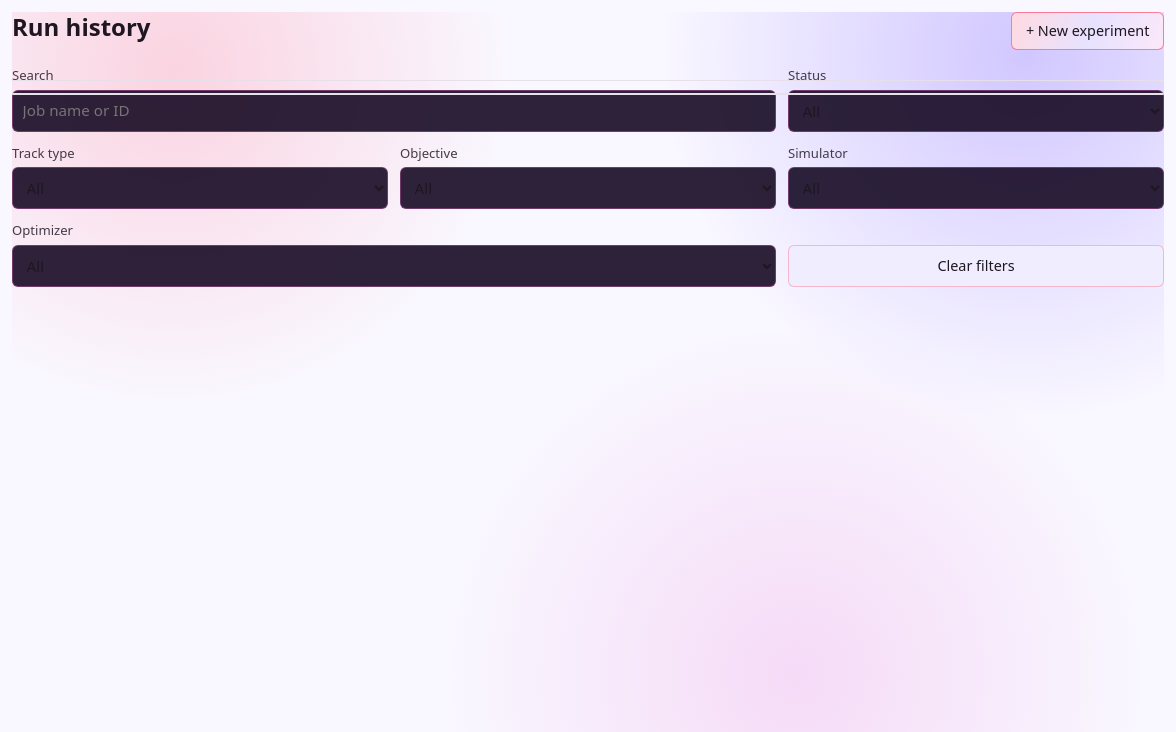
Test: History compare selection › filters jobs by name, simulator, and optimizer and clears every filter
Type "Alpha" into the search field labelled "Search" at (394, 111), box [12,90,776,132]
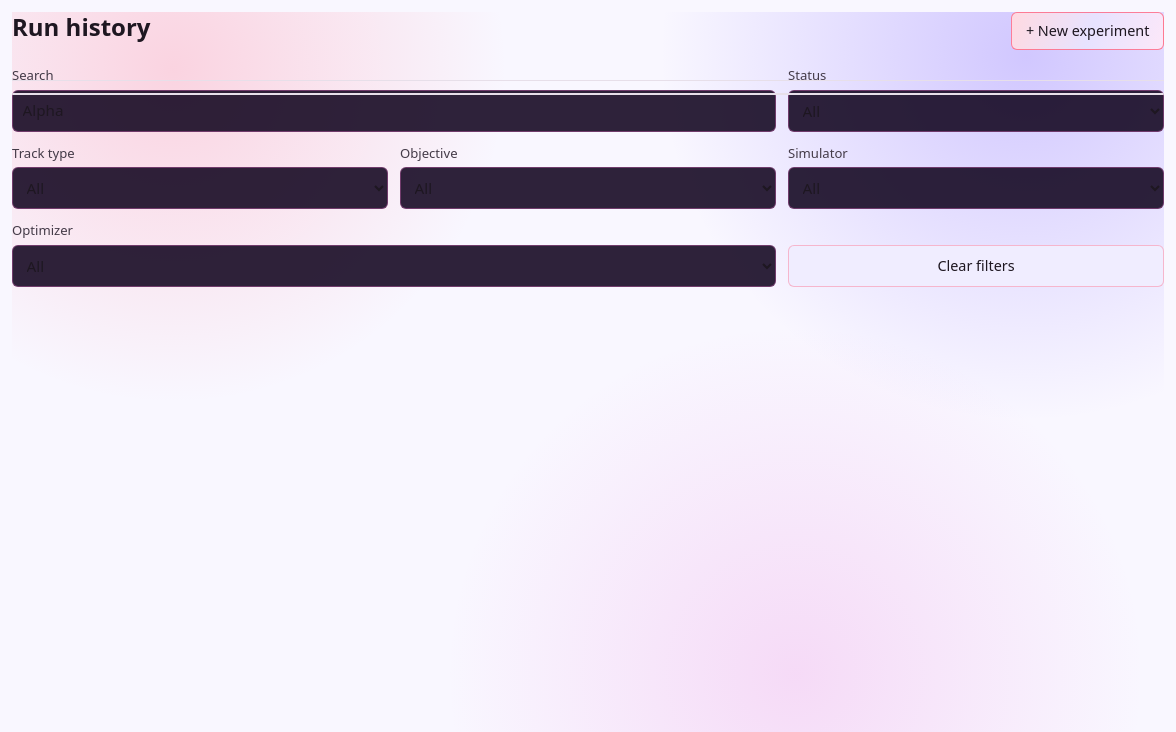
expect the text "Beta workflow" is not shown: met
Select "PX4 / Gazebo" in the dropdown labelled "Simulator" at (976, 188), box [788,167,1164,209]
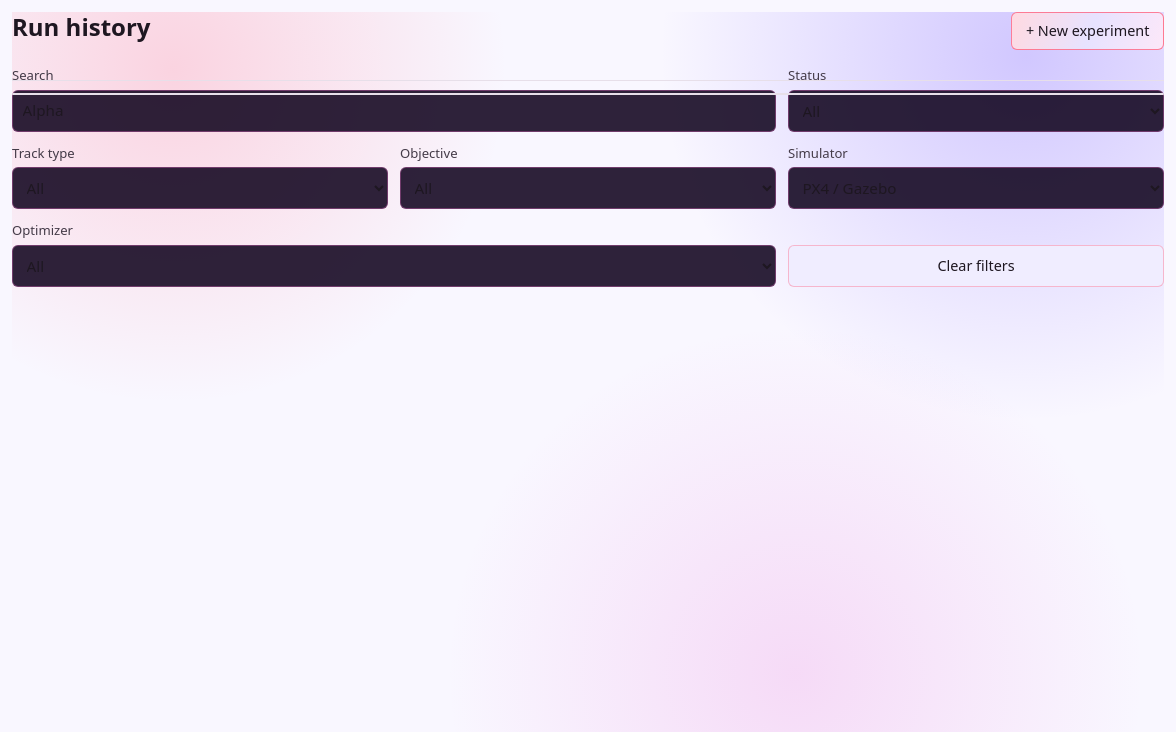
Select "Accuracy-first optimizer portfolio (Recommended)" in the dropdown labelled "Optimizer" at (394, 266), box [12,245,776,287]
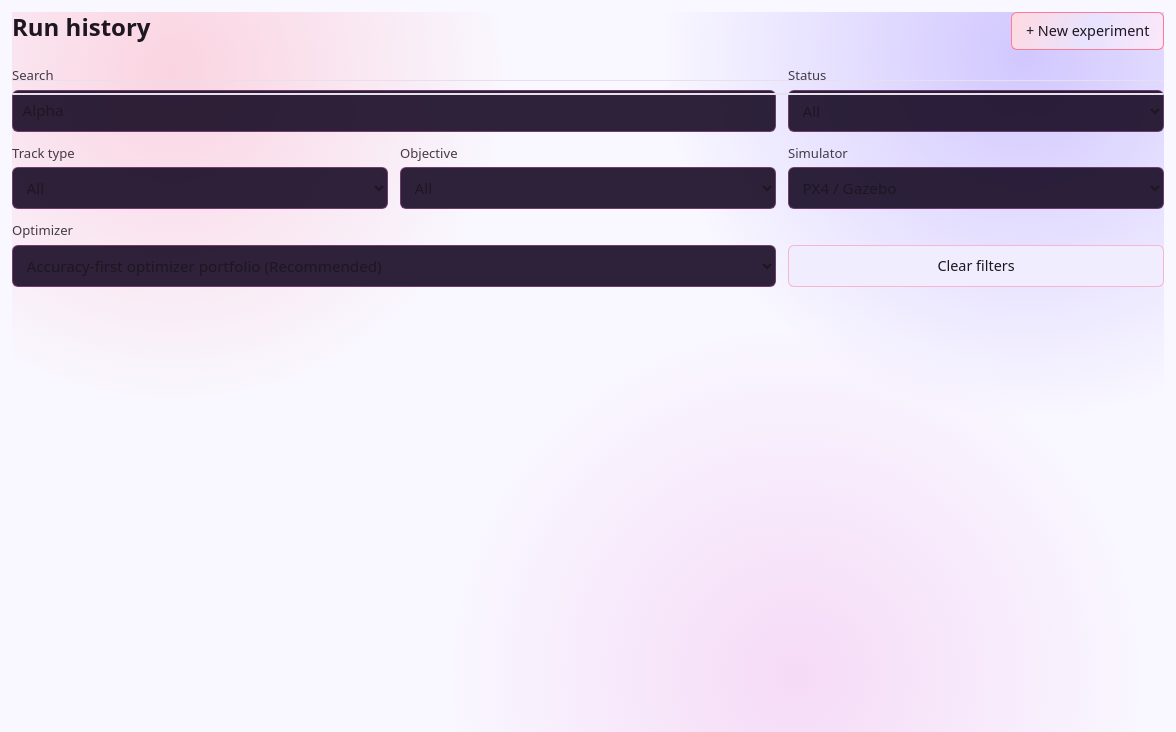
Click the button "Clear filters" at (976, 266), box [788,245,1164,287]
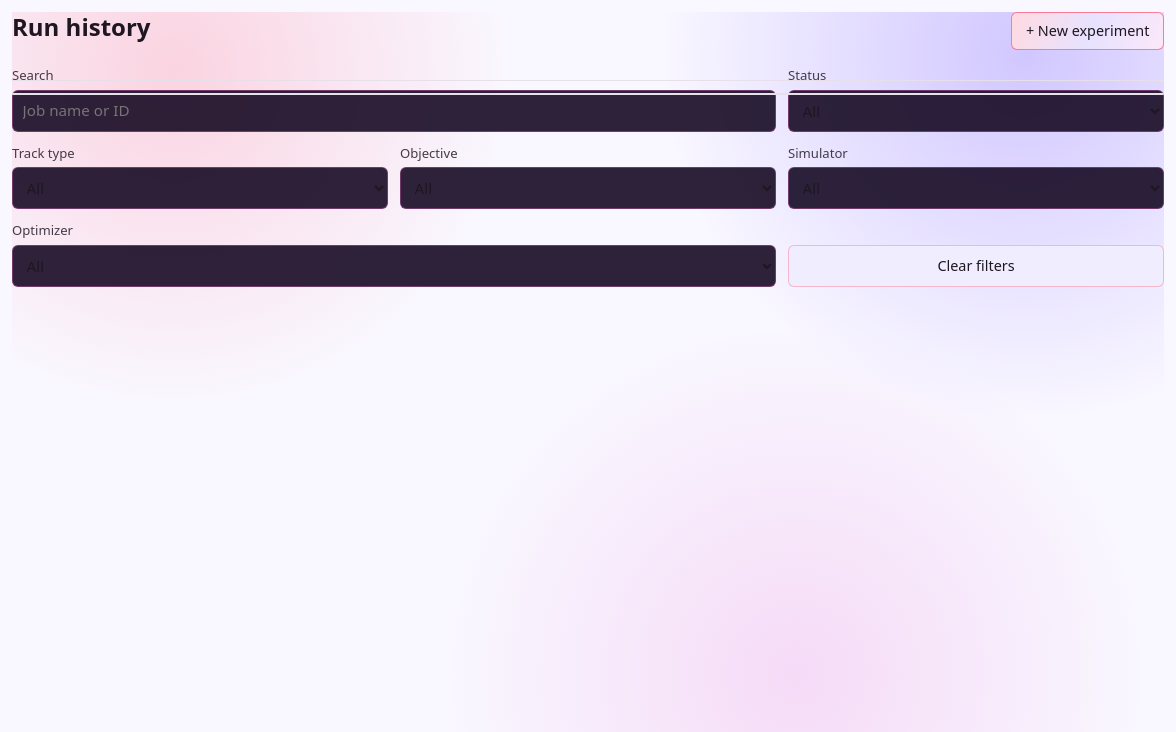
expect the search field labelled "Search" is empty: met, box [12,90,776,132]
